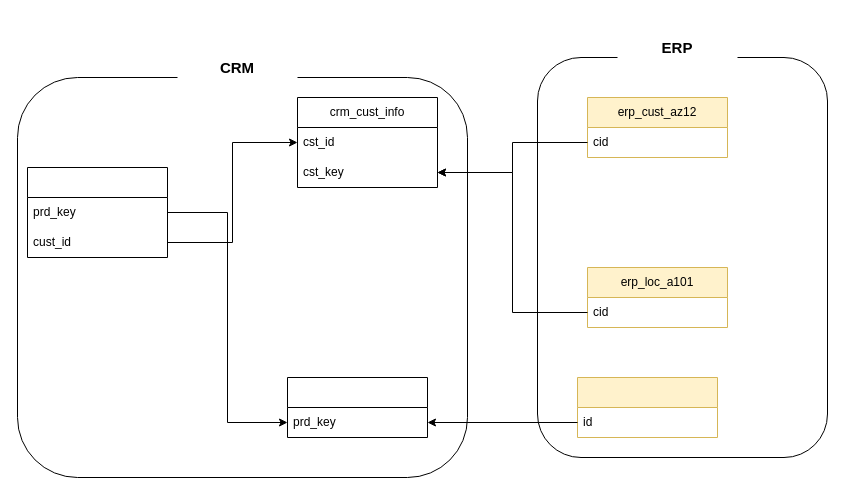
This 845x495 diagram has some shape labels left out. Here are the shapes that lost their labels. From the top down, the box of each, then its label:
(26, 166, 168, 258): crm_sales_details
(286, 376, 428, 438): crm_prd_info
(576, 376, 718, 438): erp_px_cat_g1v2
